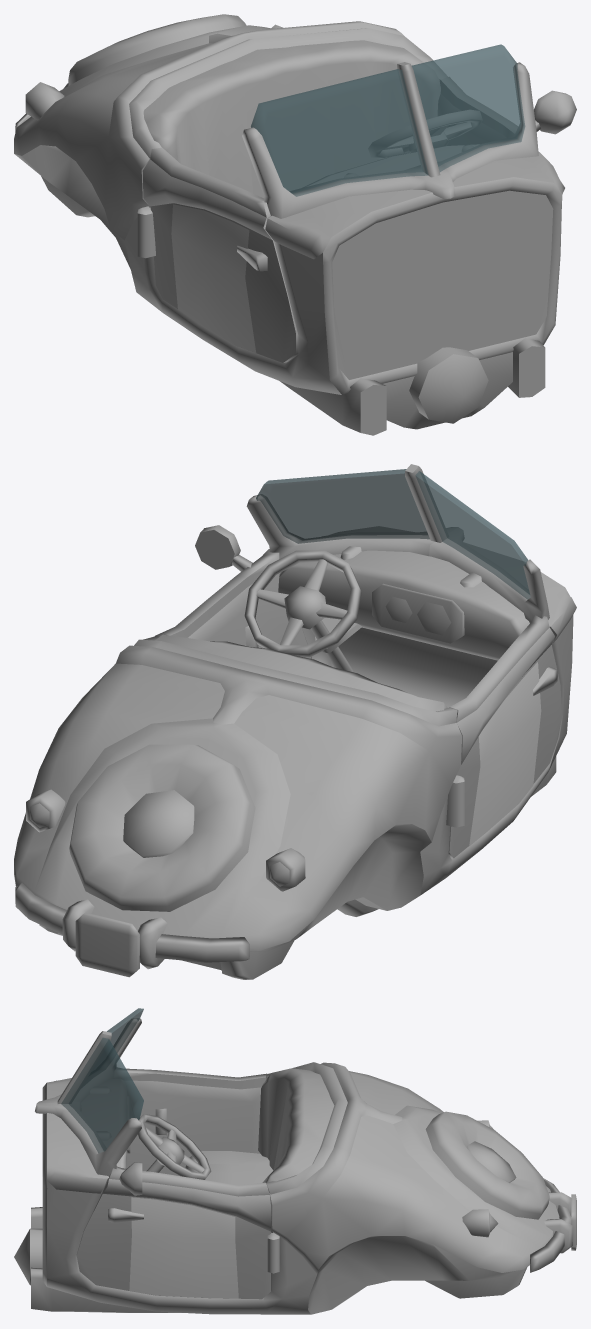
Rendered from Body_Talbo_Roadster.fbx.
3 views of the same model, one above another, from view 1: azimuth 30°, elevation 25°; view 2: azimuth 150°, elevation 25°; view 3: azimuth 270°, elevation 25° (orthographic). The views are drawn at different scales.
Visible parts, largest first — view 1: Talbot_Roadster_Body_Mesh, Talbot_Roadster_Body_Window_Mesh, Talbot_Roadster_Door_Right_Mesh, Talbot_Door_Right_Decal_Mesh, Talbot_Roadster_Door_Left_Mesh, Talbot_Body_SpareWheel_Mesh, Talbot_SteerWheel_Mesh; view 2: Talbot_Roadster_Body_Mesh, Talbot_Body_SpareWheel_Mesh, Talbot_Roadster_Body_Window_Mesh, Talbot_Body_Bumper_Rear_Mesh, Talbot_Roadster_Door_Right_Mesh, Talbot_Door_Right_Decal_Mesh, Talbot_Roadster_Door_Left_Mesh, Talbot_SteerWheel_Mesh; view 3: Talbot_Roadster_Body_Mesh, Talbot_Roadster_Door_Left_Mesh, Talbot_Door_Left_Decal_Mesh, Talbot_Roadster_Door_Right_Mesh, Talbot_Body_SpareWheel_Mesh, Talbot_Roadster_Body_Window_Mesh, Talbot_SteerWheel_Mesh, Talbot_Body_Bumper_Rear_Mesh.
Part boxes in pixels (box(x1,y1,x2,y2)): Talbot_Roadster_Body_Mesh: box(14, 21, 564, 435); Talbot_Roadster_Body_Window_Mesh: box(251, 44, 525, 196); Talbot_Roadster_Door_Right_Mesh: box(142, 147, 298, 362); Talbot_Door_Right_Decal_Mesh: box(171, 204, 256, 352); Talbot_Roadster_Door_Left_Mesh: box(438, 77, 576, 151); Talbot_Body_SpareWheel_Mesh: box(68, 14, 246, 85); Talbot_SteerWheel_Mesh: box(368, 110, 482, 158); Talbot_Roadster_Body_Mesh: box(14, 464, 576, 979); Talbot_Body_SpareWheel_Mesh: box(69, 744, 255, 911); Talbot_Roadster_Body_Window_Mesh: box(256, 469, 530, 599); Talbot_Body_Bumper_Rear_Mesh: box(15, 883, 249, 977); Talbot_Roadster_Door_Right_Mesh: box(448, 615, 561, 858); Talbot_Door_Right_Decal_Mesh: box(469, 662, 541, 846); Talbot_Roadster_Door_Left_Mesh: box(155, 525, 310, 658); Talbot_SteerWheel_Mesh: box(244, 550, 361, 672); Talbot_Roadster_Body_Mesh: box(14, 1018, 559, 1314); Talbot_Roadster_Door_Left_Mesh: box(76, 1162, 270, 1299); Talbot_Door_Left_Decal_Mesh: box(129, 1197, 238, 1298); Talbot_Roadster_Door_Right_Mesh: box(114, 1067, 267, 1176); Talbot_Body_SpareWheel_Mesh: box(425, 1111, 549, 1219); Talbot_Roadster_Body_Window_Mesh: box(61, 1008, 143, 1153); Talbot_SteerWheel_Mesh: box(138, 1114, 211, 1179); Talbot_Body_Bumper_Rear_Mesh: box(530, 1178, 576, 1272).
Size of the model in its own units: 170 by 154 by 306.
